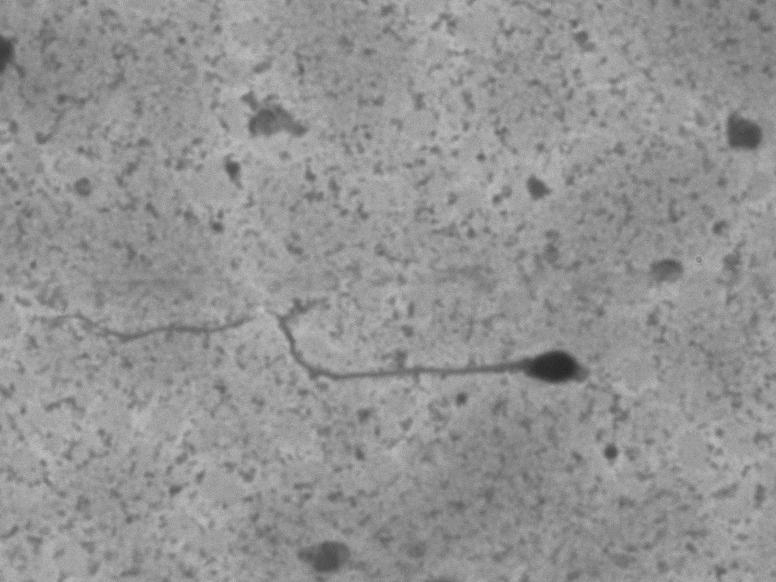Abnormal: (36, 281, 650, 424)
